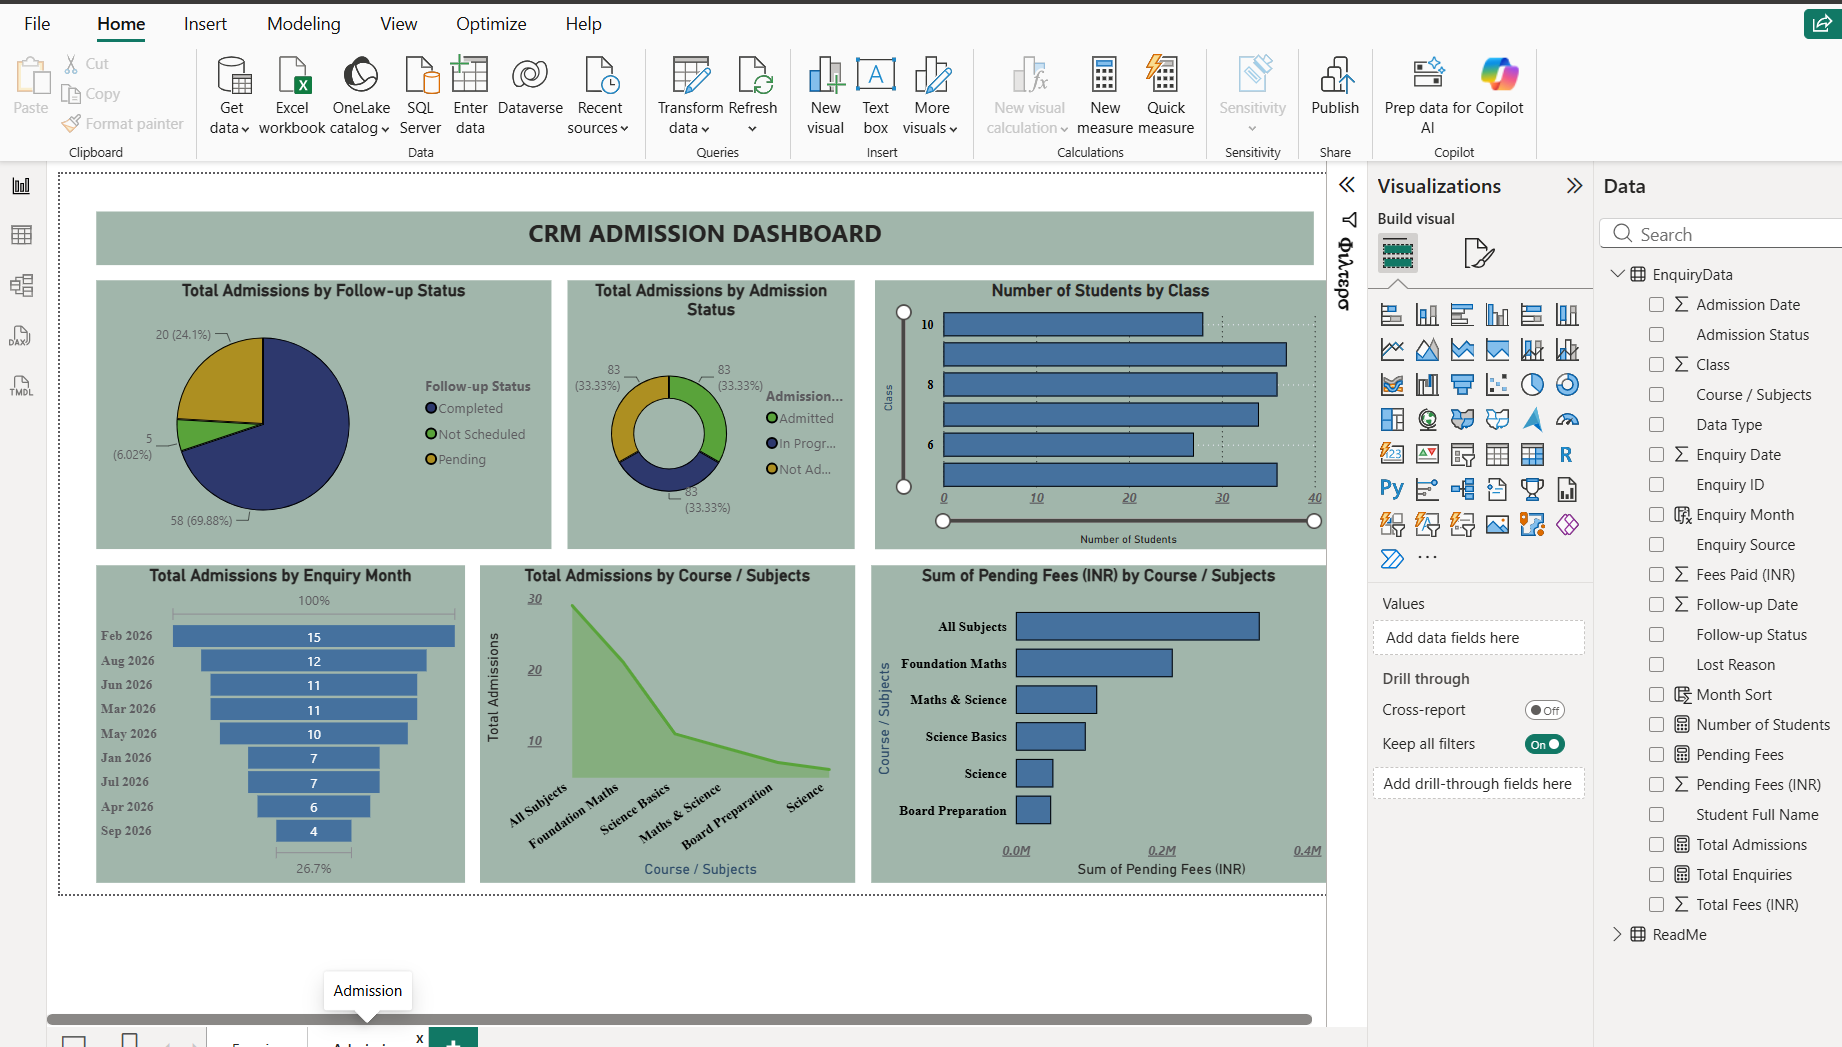

The page's visual inventory and layout, read from the dashboard file:
{"tool":"powerbi","page":{"name":"Admission","canvas":[1280,720],"ordinal":1},"visuals":[{"type":"clusteredBarChart","fields":{"Category":["EnquiryData.Class"],"Y":["EnquiryData.Number of Students"]},"box":[815,106.2,451.2,268.8],"z":0},{"type":"barChart","fields":{"Category":["EnquiryData.Course / Subjects"],"Y":["Sum(EnquiryData.Pending Fees (INR))"]},"box":[811.2,391.2,455,317.5],"z":1000},{"type":"pieChart","fields":{"Y":["EnquiryData.Total Admissions"],"Series":["EnquiryData.Follow-up Status"]},"box":[36.2,106.2,455,268.8],"z":2000},{"type":"donutChart","fields":{"Category":["EnquiryData.Admission Status"],"Y":["EnquiryData.Total Admissions"]},"box":[507.5,106.2,287.5,268.8],"z":3000},{"type":"textbox","box":[36.2,37.5,1217.5,53.8],"z":4000},{"type":"areaChart","fields":{"Category":["EnquiryData.Course / Subjects"],"Y":["EnquiryData.Total Admissions"]},"box":[420,391.2,375,317.5],"z":5000},{"type":"funnel","fields":{"Y":["EnquiryData.Total Admissions"],"Category":["EnquiryData.Enquiry Month"]},"box":[36.2,391.2,368.8,317.5],"z":6000}]}

Visuals, with their boxes on the page's 1280x720 design canvas (x1, y1, x2, y2). These are canvas units, not pixel positions in the 1842x1047 screenshot, which may show the page scaled, cropped or inside an application window:
clusteredBarChart - EnquiryData.Class x EnquiryData.Number of Students: select_region(815, 106, 1266, 375)
barChart - EnquiryData.Course / Subjects x Sum(EnquiryData.Pending Fees (INR)): select_region(811, 391, 1266, 709)
pieChart - EnquiryData.Total Admissions x EnquiryData.Follow-up Status: select_region(36, 106, 491, 375)
donutChart - EnquiryData.Admission Status x EnquiryData.Total Admissions: select_region(508, 106, 795, 375)
textbox: select_region(36, 38, 1254, 91)
areaChart - EnquiryData.Course / Subjects x EnquiryData.Total Admissions: select_region(420, 391, 795, 709)
funnel - EnquiryData.Total Admissions x EnquiryData.Enquiry Month: select_region(36, 391, 405, 709)
